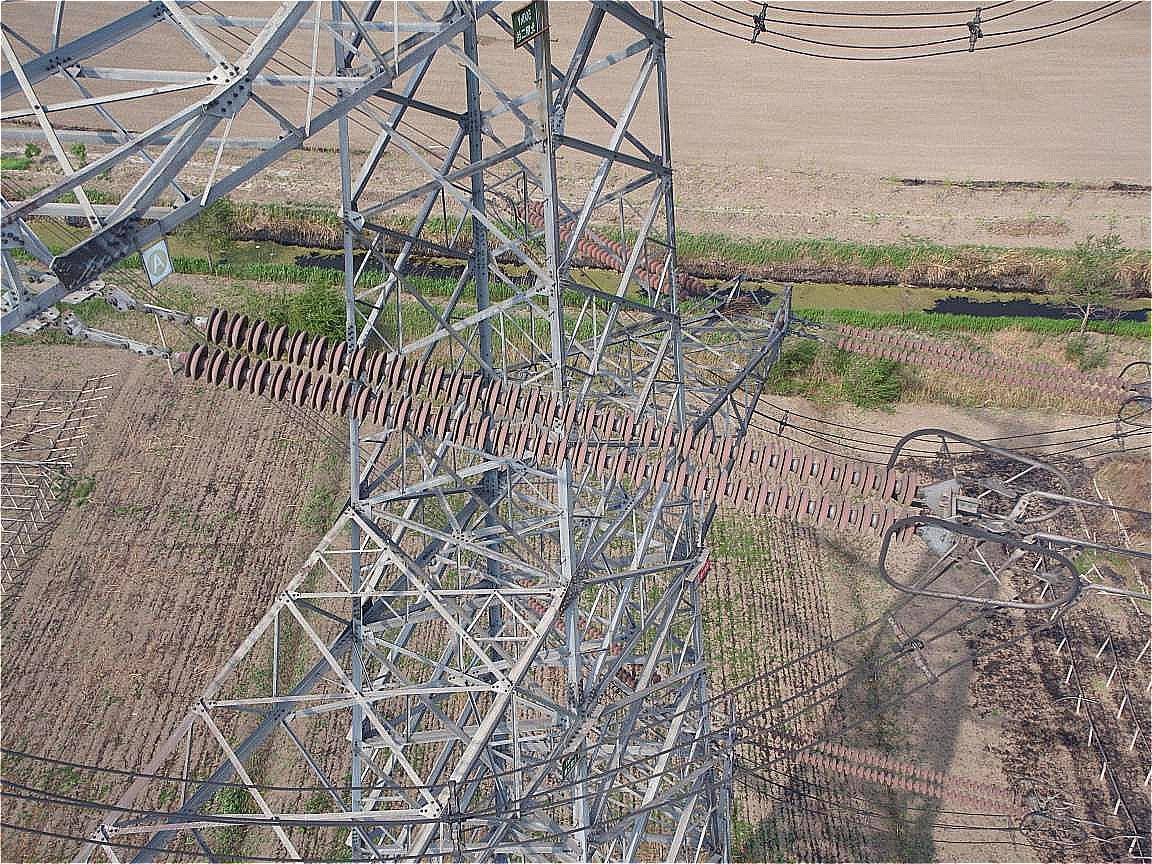insultor1: (760, 716, 1036, 818), (829, 315, 1128, 407)
insultor2: (171, 295, 937, 556)
